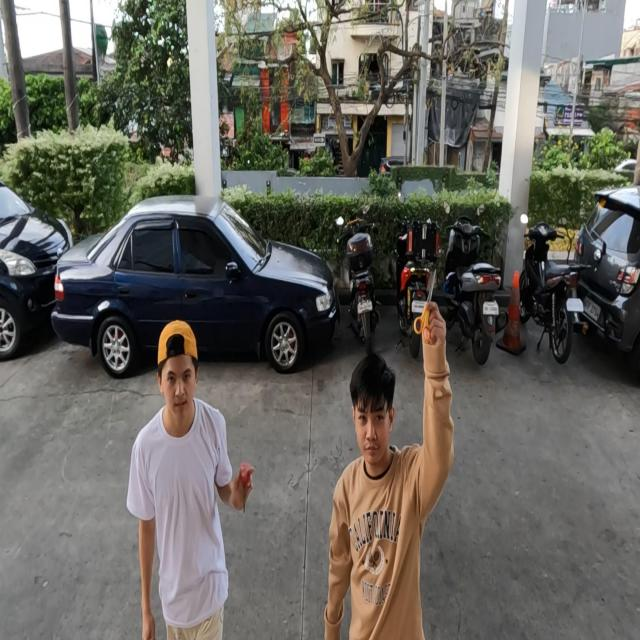scissor: (414, 269, 436, 341), (239, 462, 252, 515)
